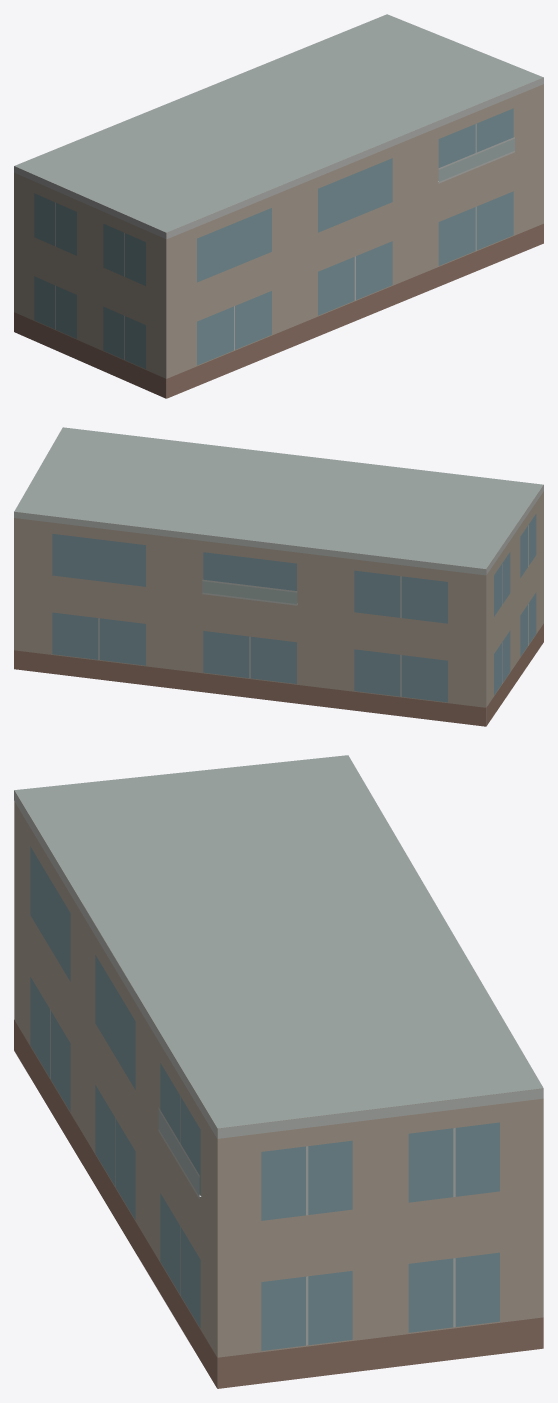
The model's file is survey-upis-32648748.glb.
3 renders of one model, top to bottom at view 1: azimuth 30°, elevation 25°; view 2: azimuth 150°, elevation 25°; view 3: azimuth 270°, elevation 25°, orthographic. The views are drawn at different scales.
Visible parts, largest first — view 1: survey-upis-32648748.tmp; view 2: survey-upis-32648748.tmp; view 3: survey-upis-32648748.tmp.
Boxes of the visible parts, x1=… form: survey-upis-32648748.tmp: x1=14, y1=14, x2=543, y2=398; survey-upis-32648748.tmp: x1=14, y1=427, x2=543, y2=726; survey-upis-32648748.tmp: x1=14, y1=755, x2=543, y2=1388.
Bounding box in the file's own units: 18.78 × 6.1 × 11.26.
